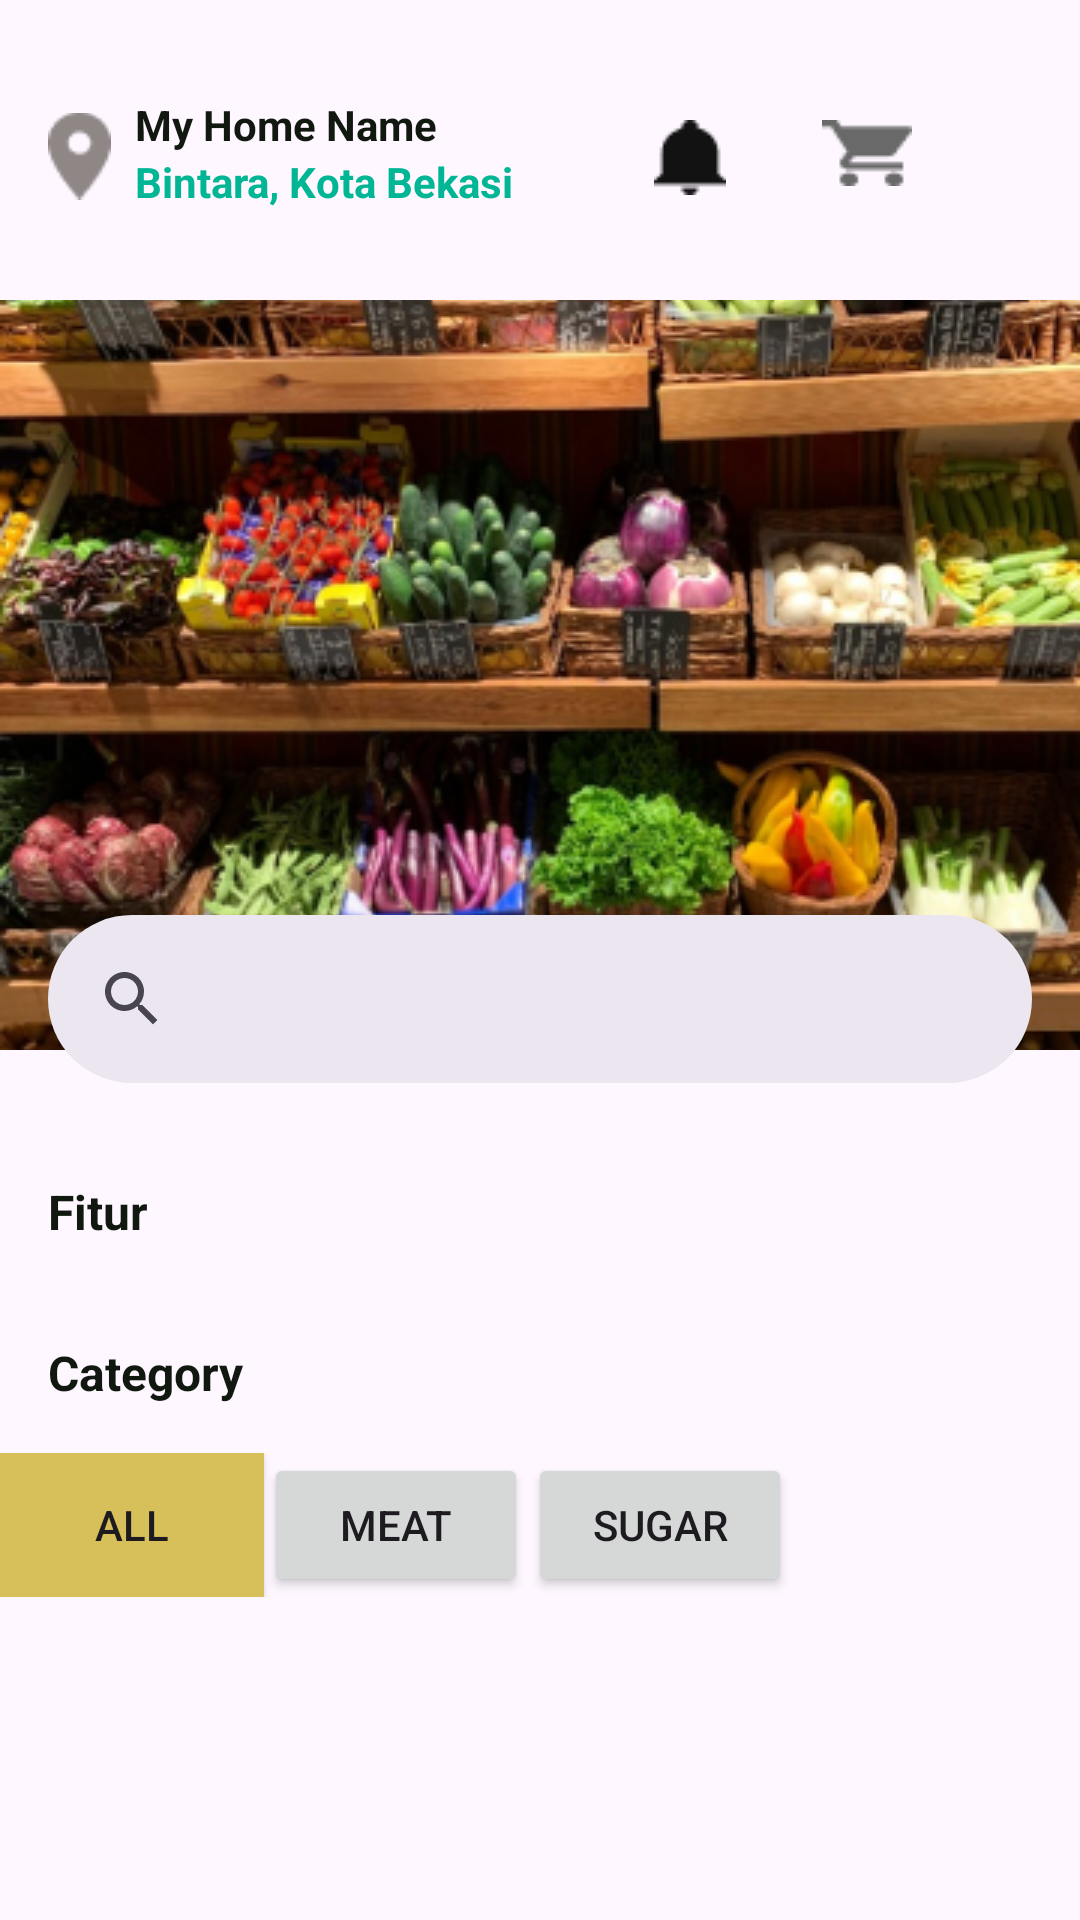

Where icons sit on this 1080px x 1920px app screen, as (x1, y1, x2, y2):
mapmarker: (48, 113, 111, 200)
notif: (654, 120, 726, 195)
trolley: (822, 120, 912, 186)
